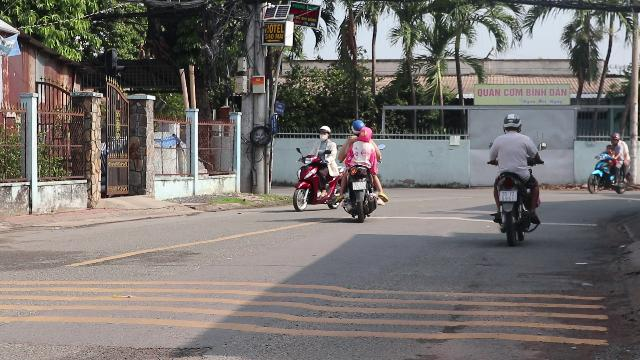helmet: (502, 114, 522, 132), (350, 118, 364, 132), (359, 126, 373, 140)
licenseplate: (500, 192, 516, 202), (352, 182, 366, 190)
motorcyclist: (485, 112, 543, 244), (336, 118, 388, 222)
